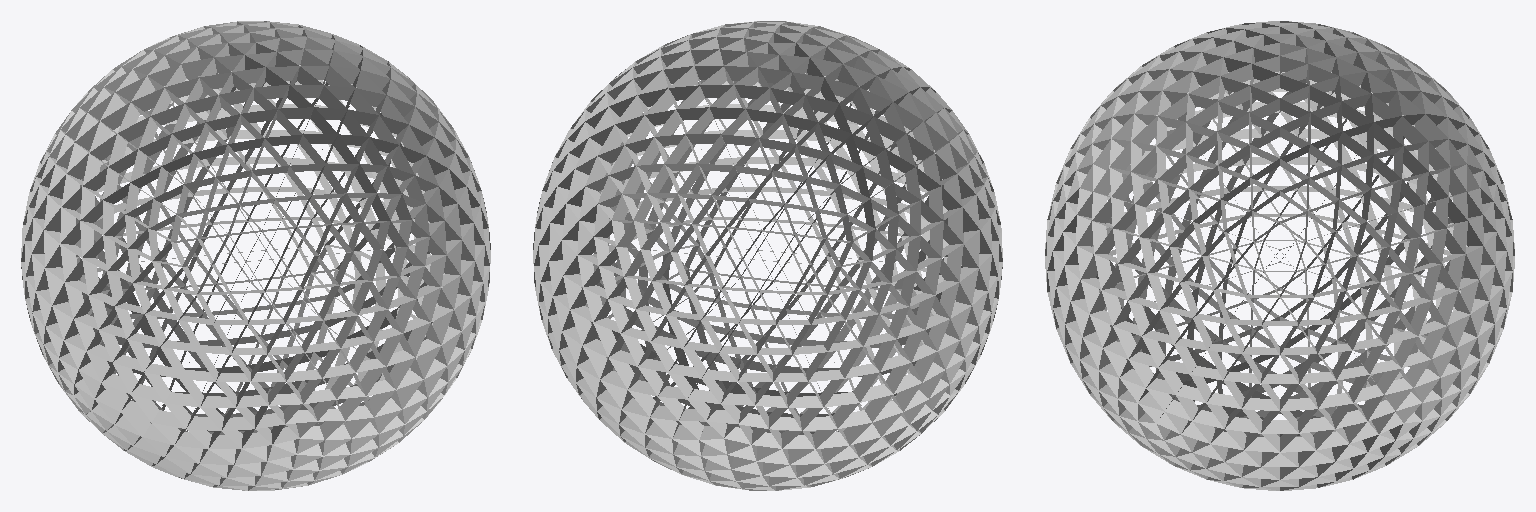
The model's file is lightbulb.obj.
3 renders of one model, left to right at view 1: azimuth 30°, elevation 25°; view 2: azimuth 150°, elevation 25°; view 3: azimuth 270°, elevation 25°, orthographic.
Visible parts, largest first — view 1: Icosphere_Icosphere.003; view 2: Icosphere_Icosphere.003; view 3: Icosphere_Icosphere.003.
Boxes of the visible parts, x1,y1,x2,y2 form: Icosphere_Icosphere.003: [21, 21, 490, 490]; Icosphere_Icosphere.003: [533, 21, 1002, 490]; Icosphere_Icosphere.003: [1045, 21, 1514, 490].
Size of the model in its own units: 2.16 by 2.16 by 2.16.